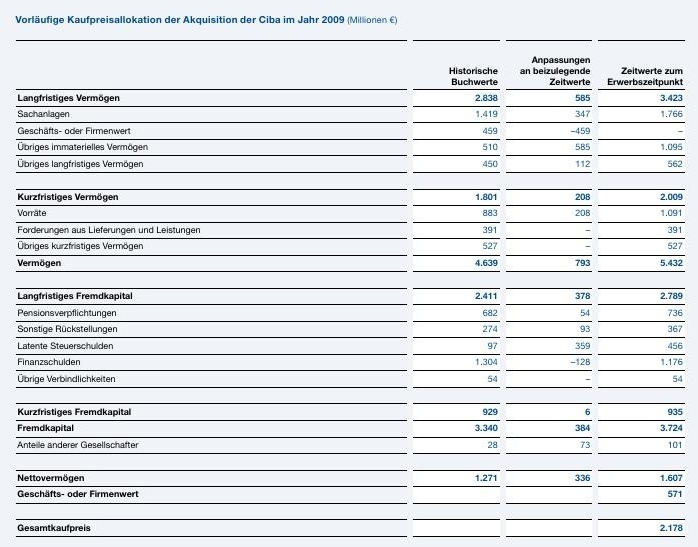table: (0, 0, 698, 547)
